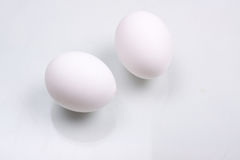Egg: (42, 44, 119, 114)
